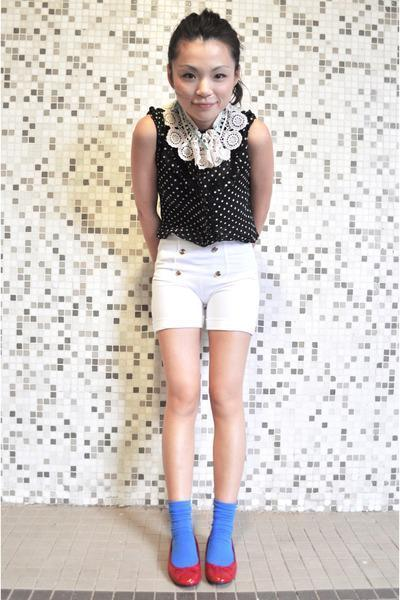shirt: (152, 101, 258, 246)
shoe: (180, 562, 226, 585)
shorts: (151, 235, 261, 331)
